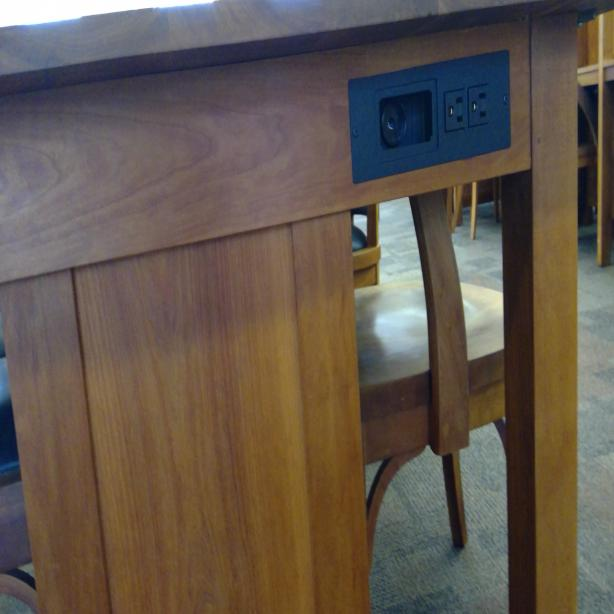typeb: (443, 84, 466, 130), (468, 84, 490, 125)
